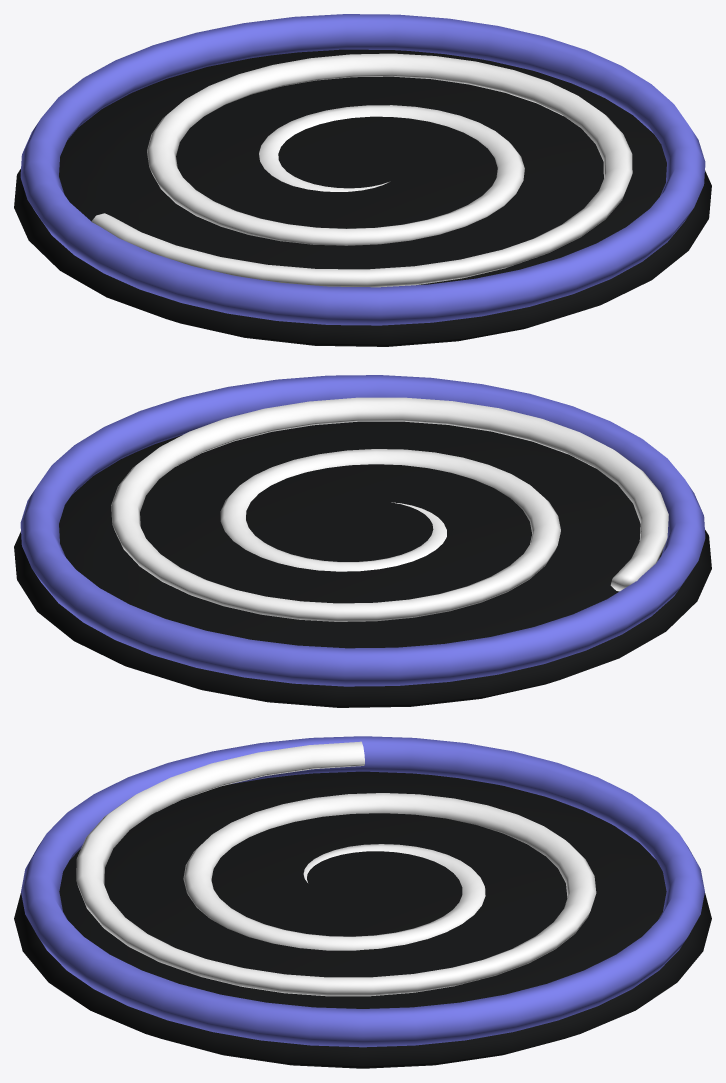
The model's file is Whirlpool.glb.
3 views of the same model, one above another, from view 1: azimuth 30°, elevation 25°; view 2: azimuth 150°, elevation 25°; view 3: azimuth 270°, elevation 25° (orthographic).
Parts seen in each view (by area): view 1: Body, OuterFoam, Spiral; view 2: Body, OuterFoam, Spiral; view 3: Body, OuterFoam, Spiral.
Part boxes in pixels (x1,y1,x2,y2): Body: (14, 49, 711, 346); OuterFoam: (20, 14, 705, 325); Spiral: (91, 53, 632, 287); Body: (14, 421, 711, 707); OuterFoam: (20, 375, 705, 686); Spiral: (111, 397, 668, 621); Body: (14, 771, 711, 1068); OuterFoam: (21, 736, 704, 1047); Spiral: (76, 741, 596, 996).
Size of the model in its own units: 1.12 by 0.1474 by 1.12.
Materials: 1 (1 with a texture image).
